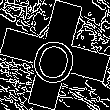O_N: (28, 25, 82, 85)
